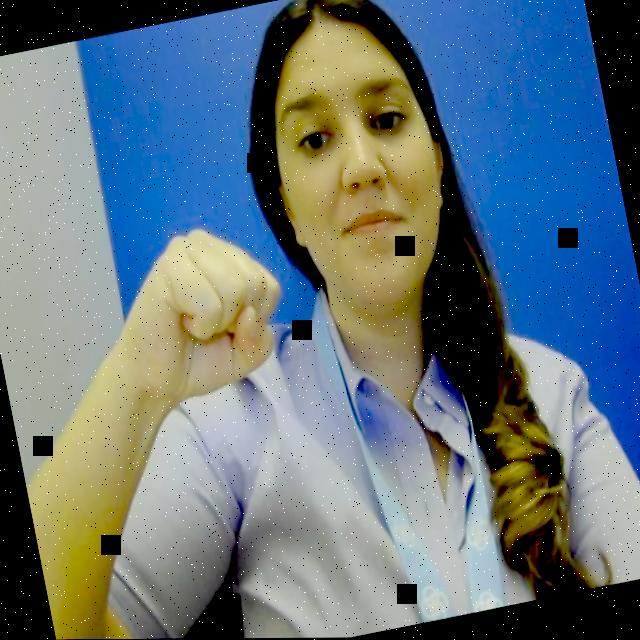Rock: (105, 215, 302, 423)
